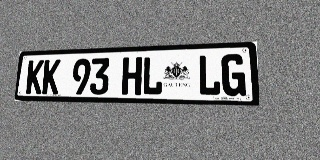3: (90, 58, 110, 95)
9: (71, 58, 91, 94)
G: (221, 54, 246, 96)
H: (121, 57, 142, 95)
K: (42, 59, 61, 94), (25, 60, 44, 94)
L: (198, 54, 221, 96), (142, 56, 163, 95)
